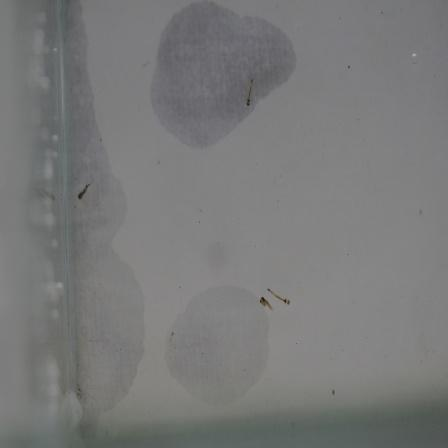Jentik-Nyamuk: (257, 283, 294, 315), (243, 76, 259, 112), (76, 178, 95, 204)
